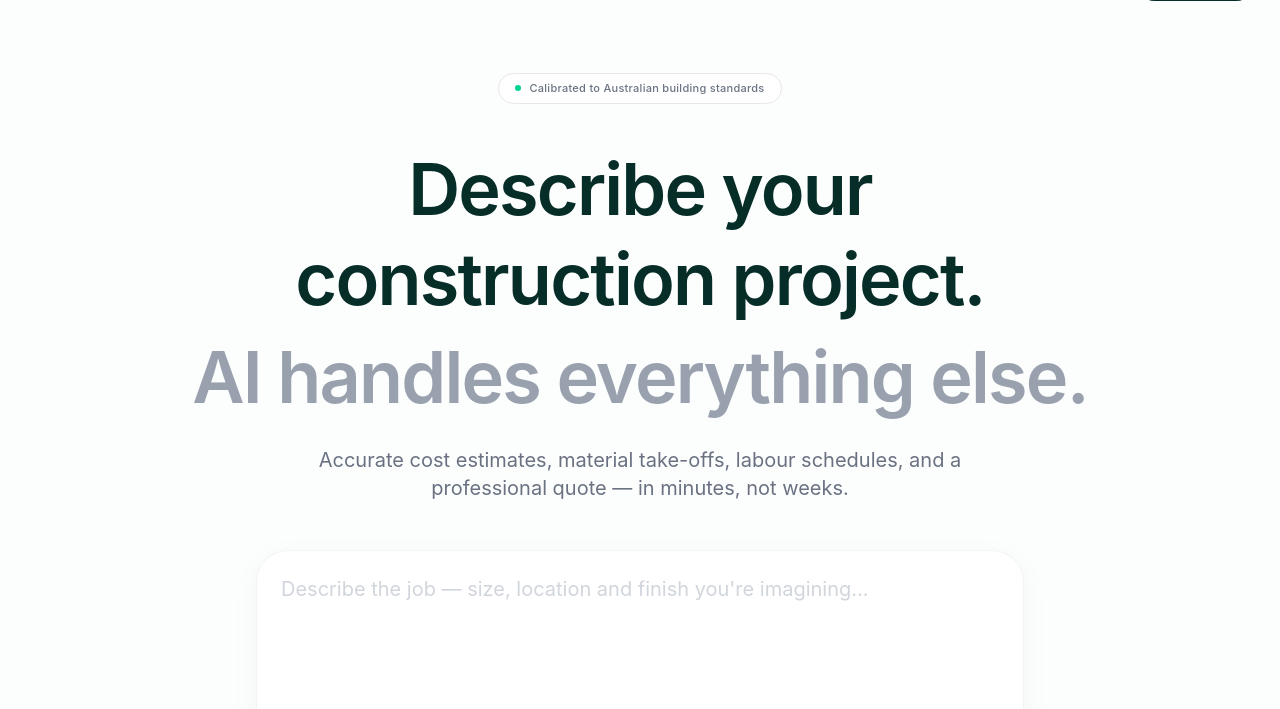
Test: Home › locks trade from the backend for the Other input mode, and ignores an empty later trade
Type "Colorbond fence, Berwick, 20m" into the text box named "describe your construction project" at coordinates (640, 634), box [281,574,999,694]
(page scrolled)
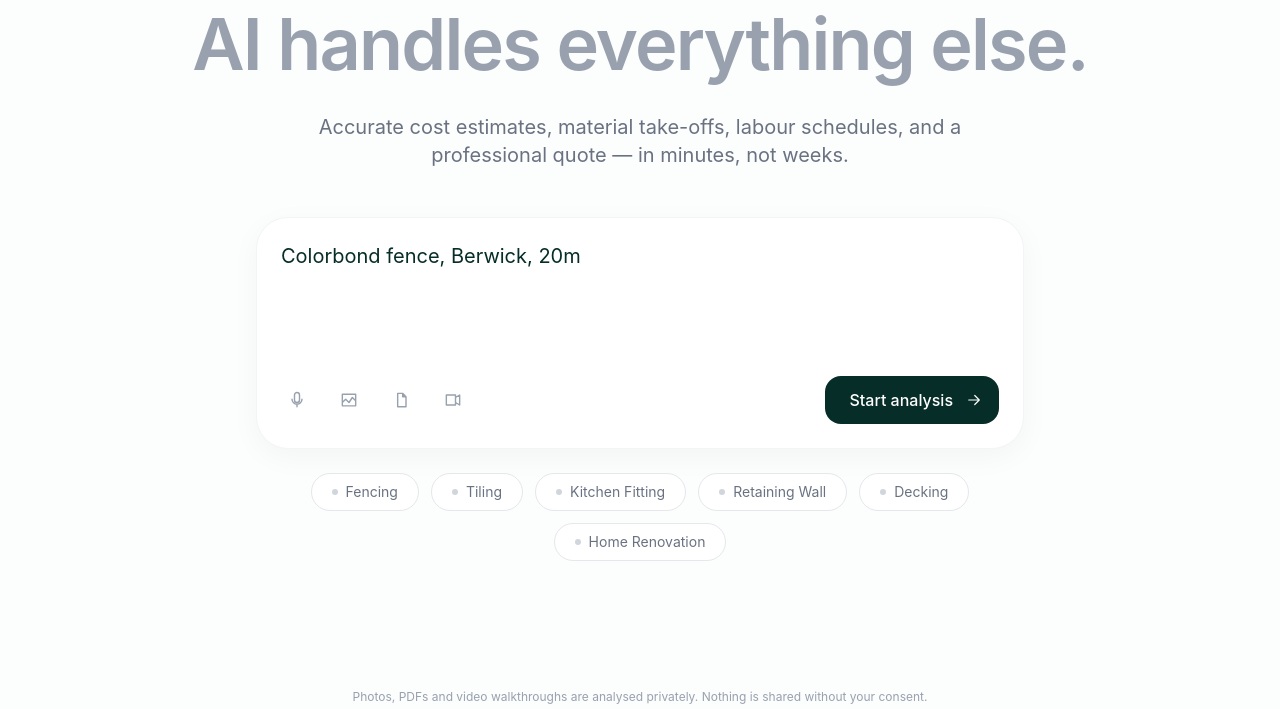
Click the button "Start analysis" at coordinates (912, 400), box [826,376,999,424]
(page scrolled)
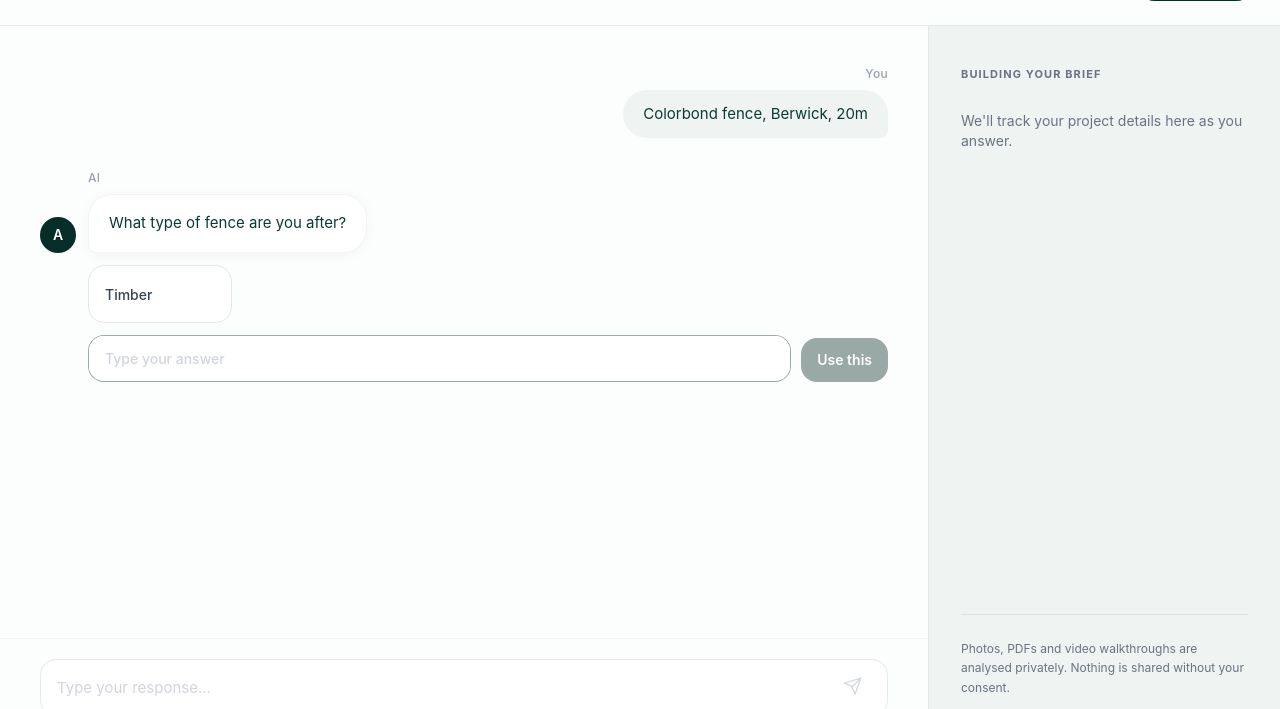
Result: the text box labelled "Type your answer" is shown at [88,335,791,382]
Click the button "Timber" at coordinates (160, 294), box [88,265,232,323]
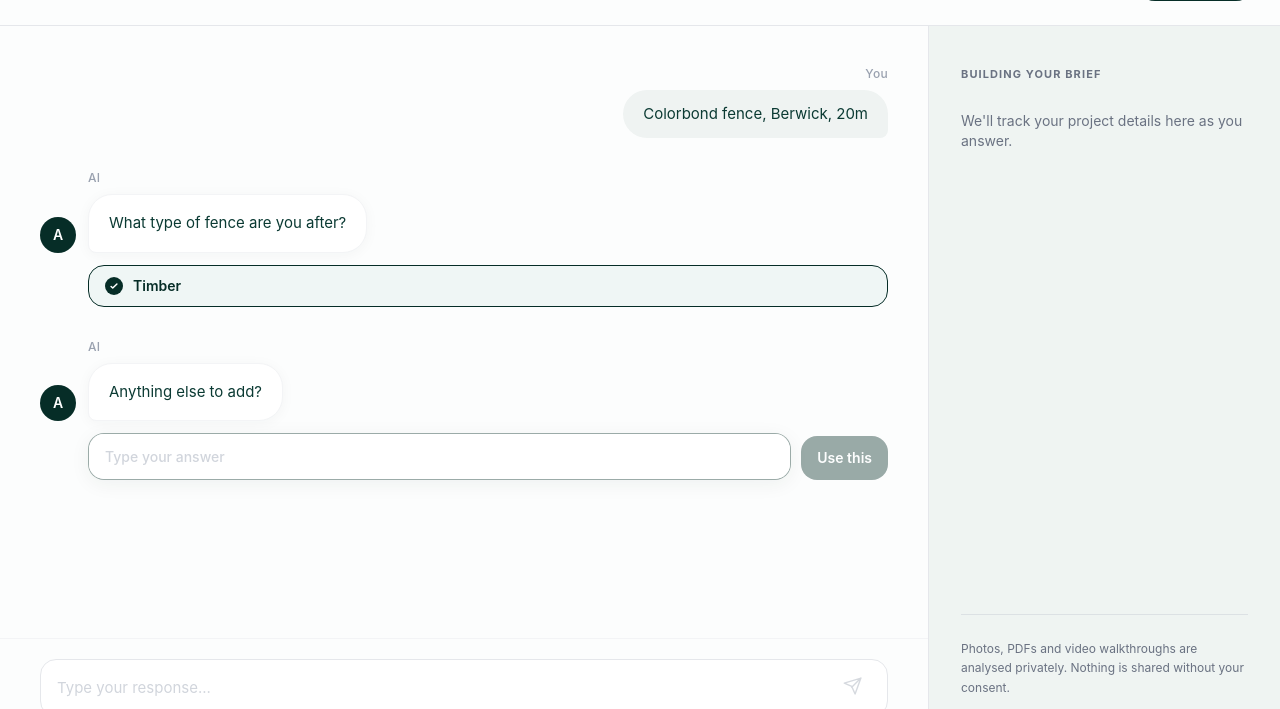
Result: the text box labelled "Type your answer" is shown at [88,433,791,480]
Result: the text "Anything else to add?" is shown at [109,380,262,404]
